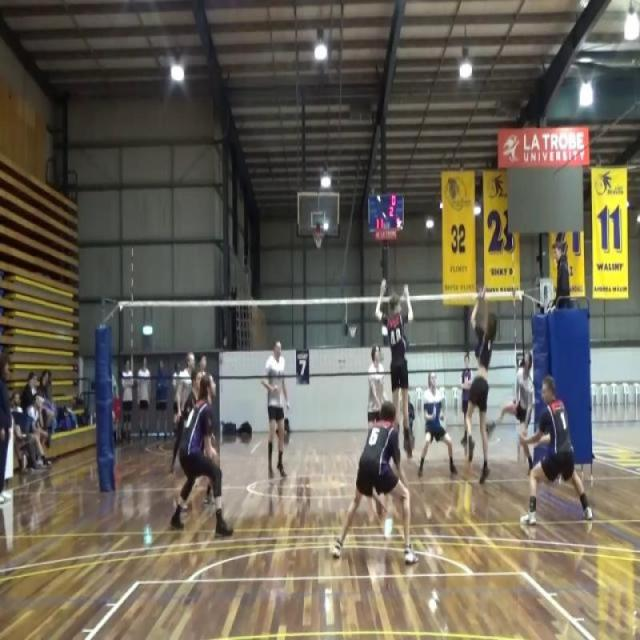volleyball: (453, 481, 476, 524)
